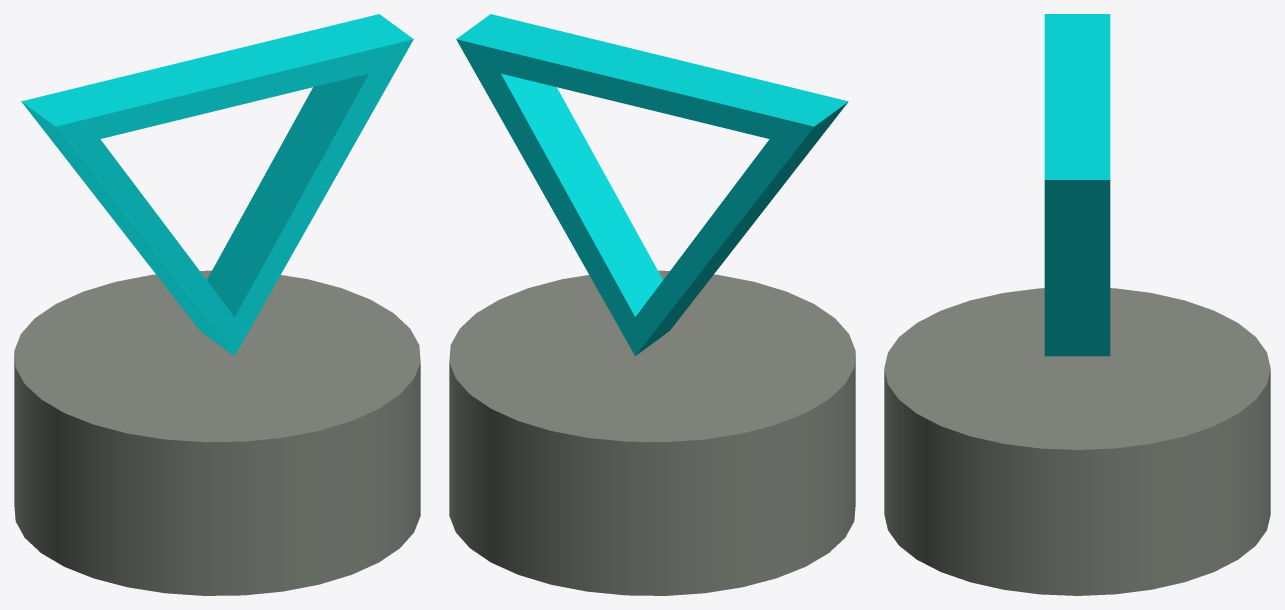
The model's file is water totem mesh.fbx.
3 renders of one model, left to right at view 1: azimuth 30°, elevation 25°; view 2: azimuth 150°, elevation 25°; view 3: azimuth 270°, elevation 25°, orthographic. The views are drawn at different scales.
Visible parts, largest first — view 1: water, water.001; view 2: water, water.001; view 3: water, water.001.
Part boxes in pixels (x1,y1,x2,y2): water: (14,270,420,595); water.001: (21,14,413,355); water: (449,270,855,595); water.001: (456,14,848,355); water: (884,288,1270,595); water.001: (1044,14,1110,356).
Bounding box in the file's own units: 24.38 × 28.6 × 24.
